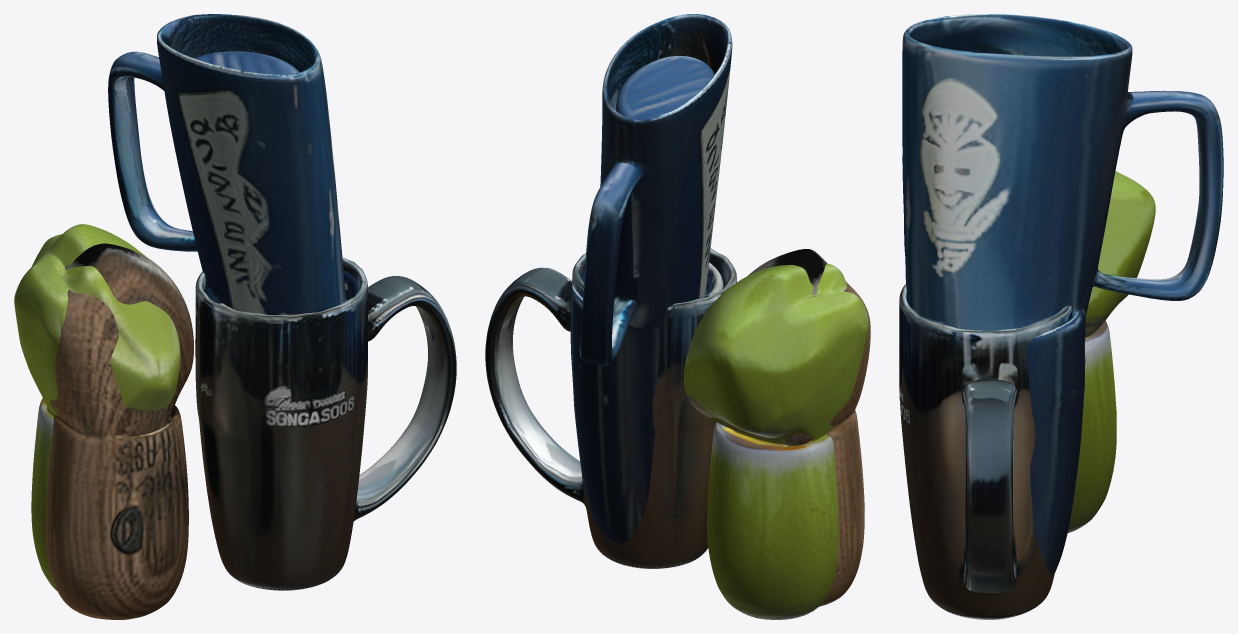
Rendered from midi_textured.glb.
3 renders of one model, left to right at view 1: azimuth 30°, elevation 25°; view 2: azimuth 150°, elevation 25°; view 3: azimuth 270°, elevation 25°, orthographic. The views are drawn at different scales.
Parts seen in each view (by area): view 1: geometry_0, geometry_0e65ed19d5f0e, geometry_0282ca64a312f, geometry_0d8d598ae21fb; view 2: geometry_0e65ed19d5f0e, geometry_0d8d598ae21fb, geometry_0, geometry_0282ca64a312f; view 3: geometry_0e65ed19d5f0e, geometry_0, geometry_0d8d598ae21fb.
Boxes of the visible parts, x1=… form: geometry_0: x1=195, y1=257, x2=456, y2=590; geometry_0e65ed19d5f0e: x1=108, y1=14, x2=359, y2=315; geometry_0282ca64a312f: x1=45, y1=243, x2=193, y2=619; geometry_0d8d598ae21fb: x1=14, y1=224, x2=180, y2=590; geometry_0e65ed19d5f0e: x1=570, y1=14, x2=732, y2=545; geometry_0d8d598ae21fb: x1=684, y1=263, x2=868, y2=619; geometry_0: x1=485, y1=248, x2=736, y2=568; geometry_0282ca64a312f: x1=748, y1=249, x2=870, y2=606; geometry_0e65ed19d5f0e: x1=902, y1=14, x2=1223, y2=575; geometry_0: x1=899, y1=284, x2=1072, y2=619; geometry_0d8d598ae21fb: x1=1067, y1=171, x2=1155, y2=532.
Size of the model in its own units: 1.47 by 1.9 by 1.
Materials: 4 (4 with a texture image).
